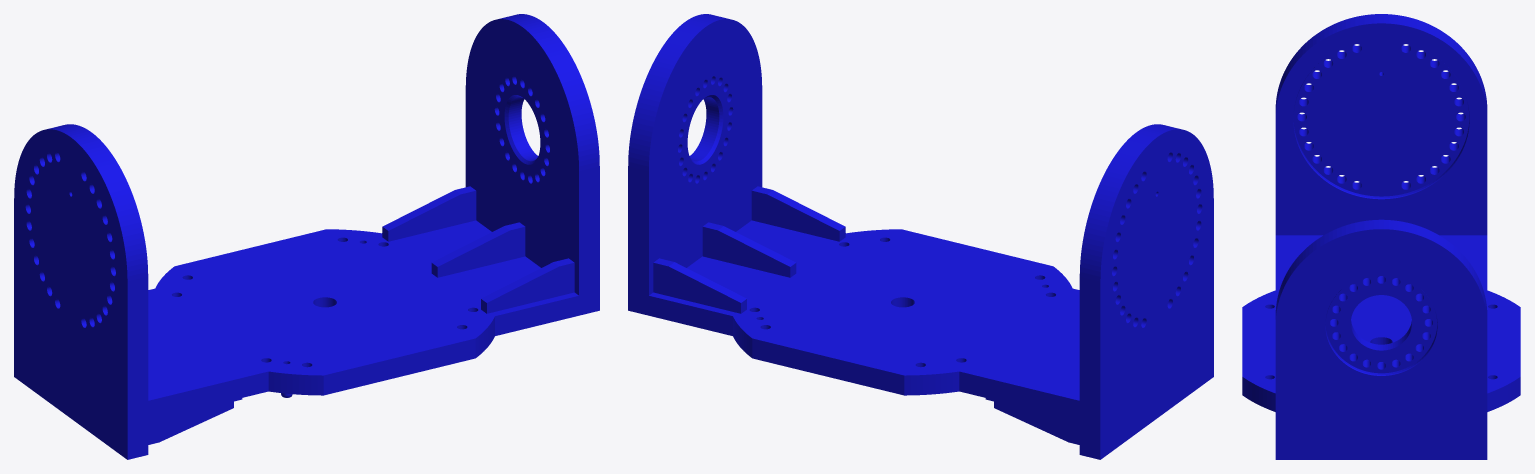
The model's file is tilt.dae.
3 views of the same model, side by side, from view 1: azimuth 30°, elevation 25°; view 2: azimuth 150°, elevation 25°; view 3: azimuth 270°, elevation 25° (orthographic). The views are drawn at different scales.
Visible parts, largest first — view 1: Tilt; view 2: Tilt; view 3: Tilt.
Boxes of the visible parts, x1,y1,x2,y2 form: Tilt: (14,14,599,459); Tilt: (628,14,1213,459); Tilt: (1242,14,1520,459).
Size of the model in its own units: 0.0914 by 0.05 by 0.052.
